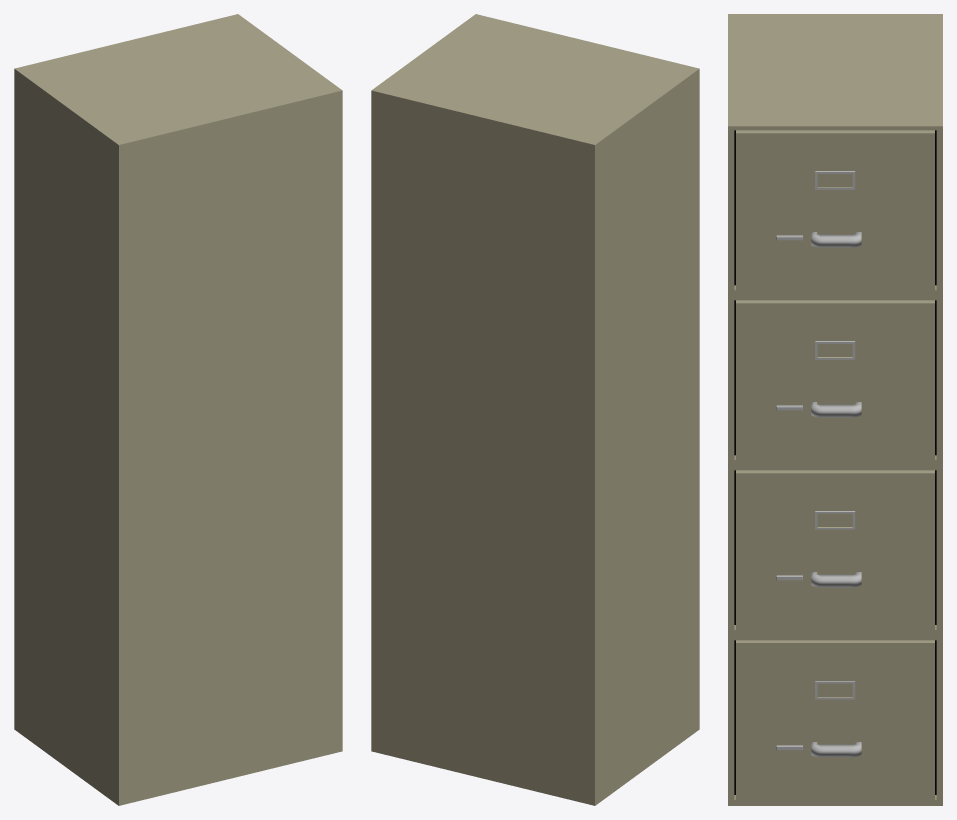
File: Cabinets4x1.fbx
3 views of the same model, side by side, from view 1: azimuth 30°, elevation 25°; view 2: azimuth 150°, elevation 25°; view 3: azimuth 270°, elevation 25° (orthographic). The views are drawn at different scales.
Visible parts, largest first — view 1: Cube.002; view 2: Cube.002; view 3: Cube.002.
Part boxes in pixels (bbox=[...]): Cube.002: bbox=[14, 14, 342, 805]; Cube.002: bbox=[371, 14, 699, 805]; Cube.002: bbox=[728, 14, 942, 805].
Size of the model in its own units: 104 by 276 by 79.21.
